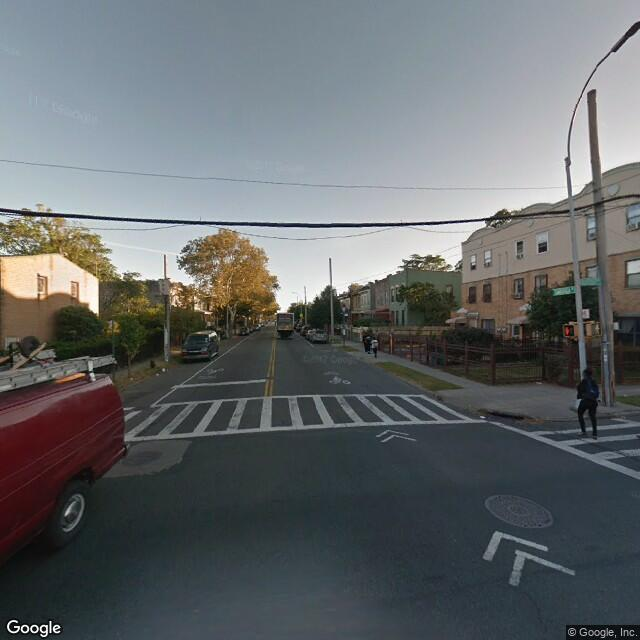litter: (533, 379, 543, 383), (479, 413, 485, 418), (160, 367, 165, 372), (127, 375, 133, 378)
